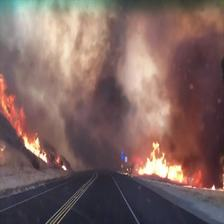fire: (5, 72, 62, 167), (135, 142, 213, 196)
